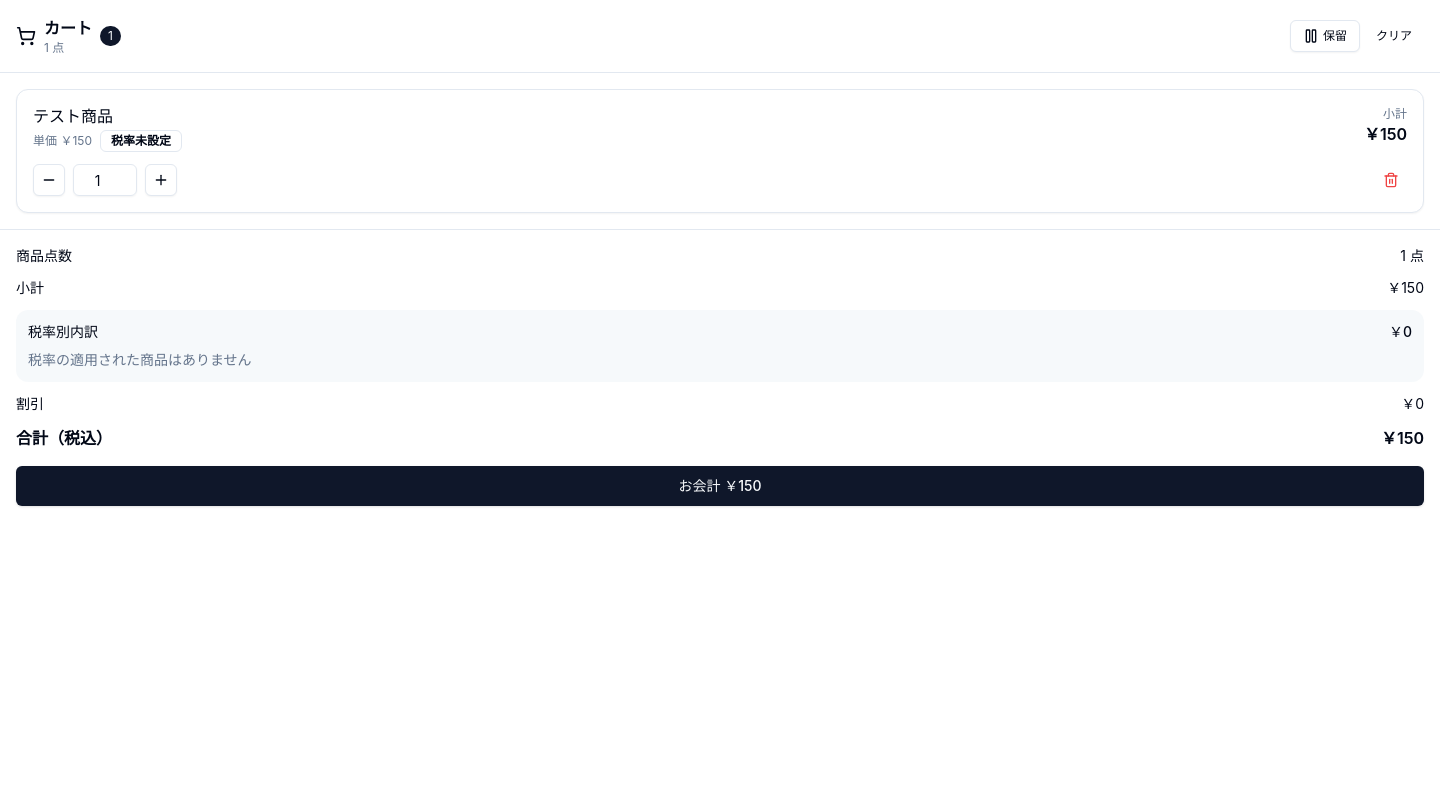
Test: CartPanel › お会計ボタンをクリックするとチェックアウトダイアログが開く
Click the button "お会計 ￥150".
click(720, 486)  # box [16, 466, 1424, 506]
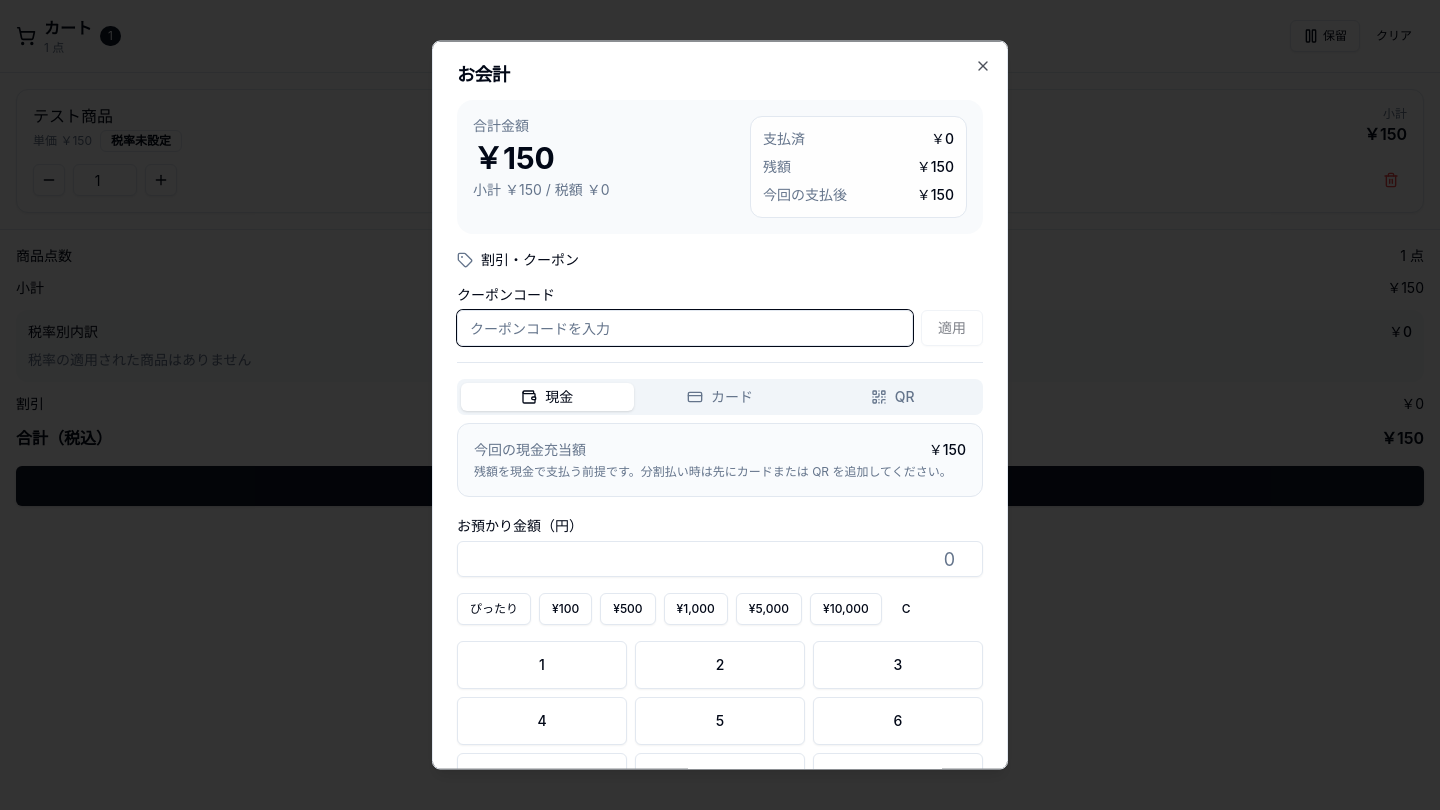
expect the heading "お会計" is shown: met, box [457, 64, 510, 84]
